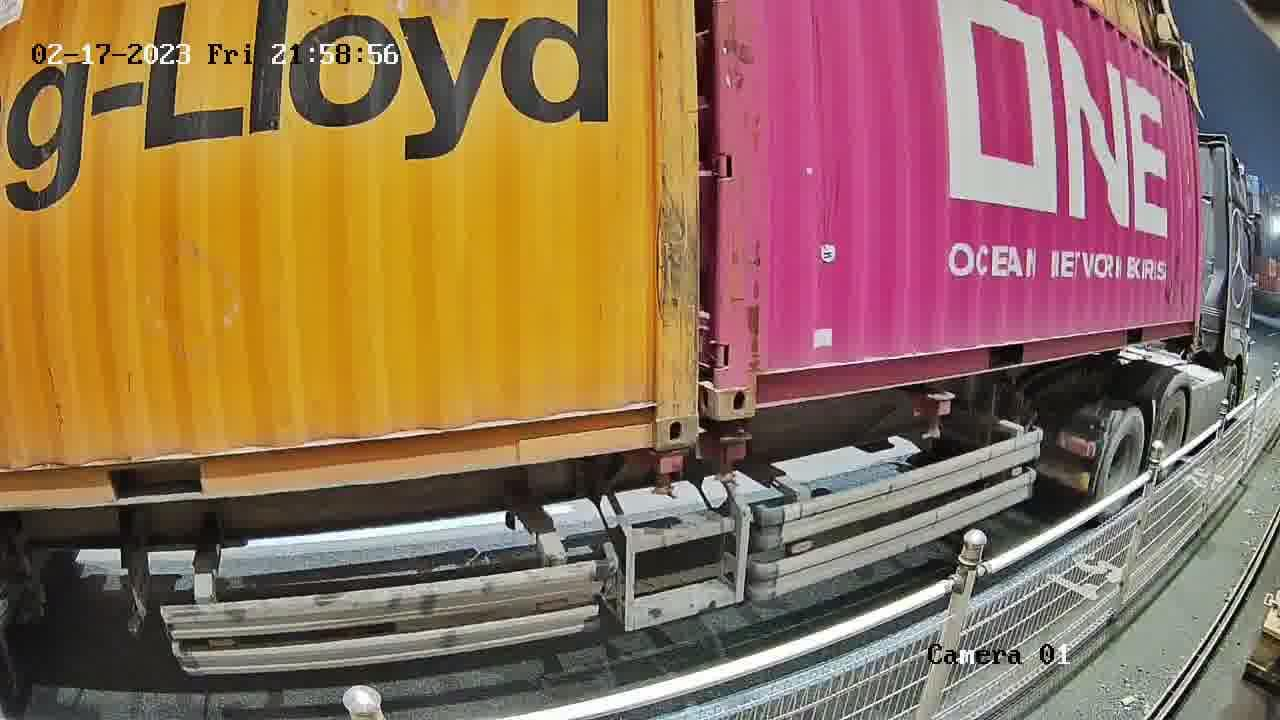Cone: (714, 427, 756, 484), (649, 447, 691, 500)
Hole_L: (717, 349, 791, 420)
Hole_R: (617, 381, 700, 452)
Tire: (1097, 411, 1146, 513), (1157, 390, 1187, 476)
